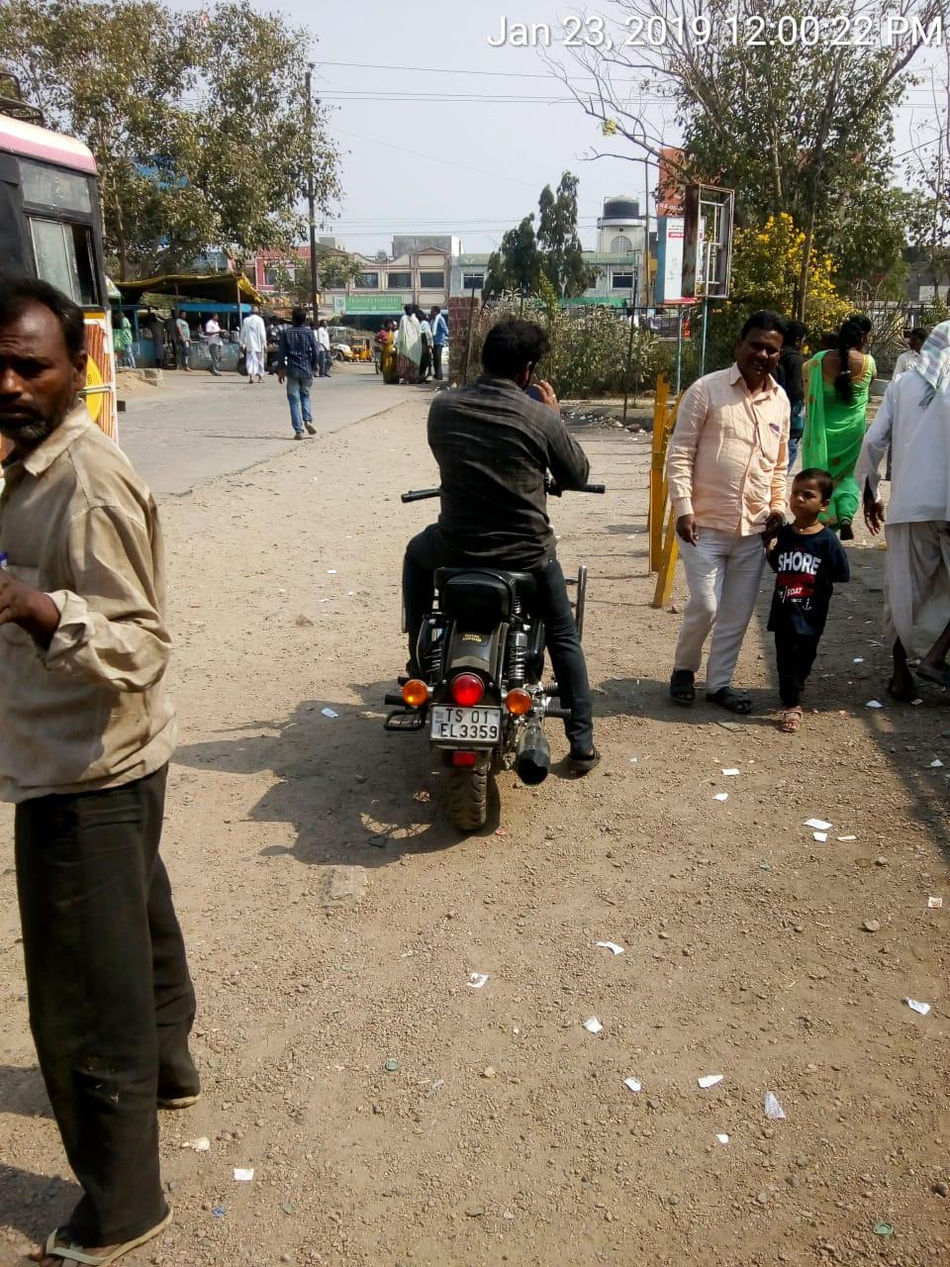plate: (427, 697, 516, 757)
